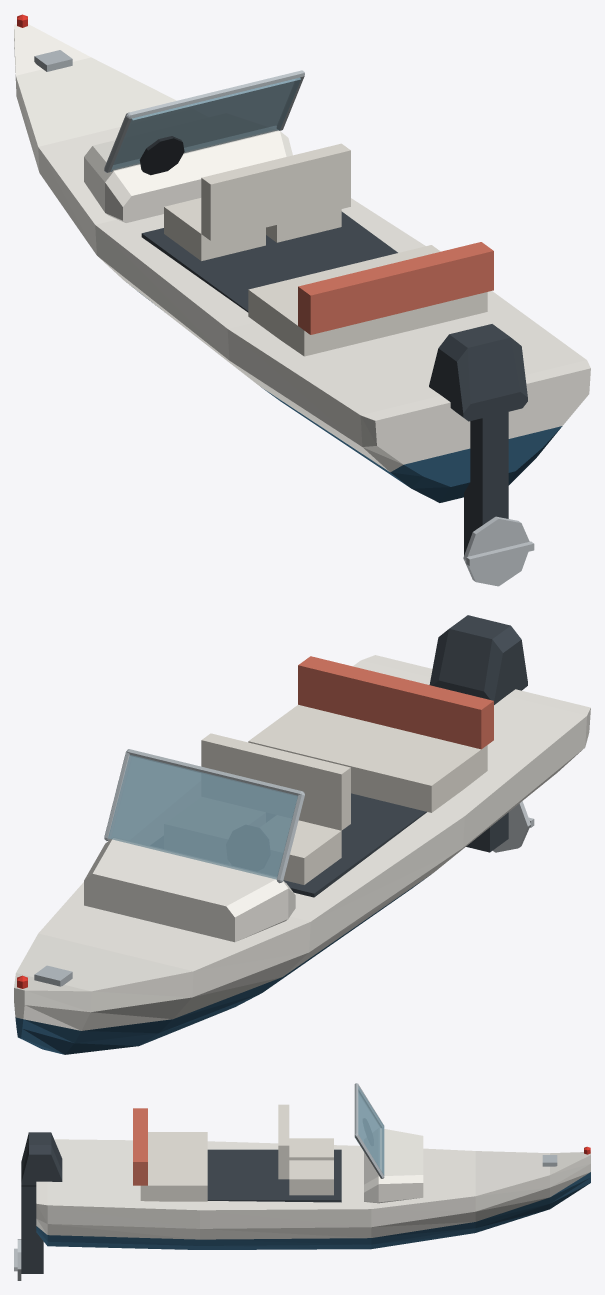
Rendered from BOAT_02.obj.
The picture shows the model from 3 angles, top to bottom: view 1: azimuth 30°, elevation 25°; view 2: azimuth 150°, elevation 25°; view 3: azimuth 270°, elevation 25°; orthographic projection. The views are drawn at different scales.
Visible parts, largest first — view 1: hull_upper, seat_rear, seat_front, cockpit_floor, dash, windshield, engine_cowl, outboard_leg, hull_lower, propeller, windshield_frame, steering_wheel; view 2: hull_upper, seat_rear, windshield, dash, seat_front, engine_cowl, hull_lower, cockpit_floor, windshield_frame, propeller, outboard_leg, bow_cleat; view 3: hull_upper, hull_lower, seat_rear, cockpit_floor, dash, seat_front, engine_cowl, outboard_leg, windshield, windshield_frame.
Boxes of the visible parts, x1,y1,x2,y2 form: hull_upper: (14, 24, 590, 472); seat_rear: (248, 242, 493, 356); seat_front: (164, 143, 350, 260); cockpit_floor: (141, 211, 397, 312); dash: (84, 130, 292, 222); windshield: (110, 77, 300, 171); engine_cowl: (429, 324, 527, 421); outboard_leg: (464, 402, 508, 555); hull_lower: (137, 291, 562, 502); propeller: (463, 516, 529, 586); windshield_frame: (104, 70, 304, 172); steering_wheel: (139, 136, 184, 175); hull_upper: (14, 655, 590, 1030); seat_rear: (248, 656, 493, 812); windshield: (108, 755, 297, 879); dash: (84, 838, 295, 942); seat_front: (201, 733, 350, 884); engine_cowl: (429, 615, 527, 704); hull_lower: (15, 876, 428, 1054); cockpit_floor: (283, 793, 426, 897); windshield_frame: (104, 749, 304, 883); propeller: (492, 801, 530, 852); outboard_leg: (466, 812, 508, 852); bow_cleat: (34, 965, 72, 986); hull_upper: (36, 1139, 590, 1239); hull_lower: (36, 1172, 590, 1249); seat_rear: (133, 1108, 207, 1201); cockpit_floor: (207, 1149, 341, 1202); dash: (364, 1128, 423, 1203); seat_front: (278, 1104, 333, 1195); engine_cowl: (21, 1132, 62, 1186); outboard_leg: (21, 1187, 43, 1273); windshield: (354, 1086, 384, 1175); windshield_frame: (354, 1083, 384, 1178).
Size of the model in its own units: 2.2 by 2.55 by 7.75.
